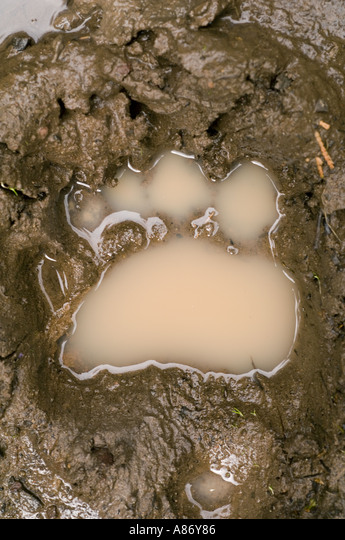bear: (27, 114, 312, 387)
